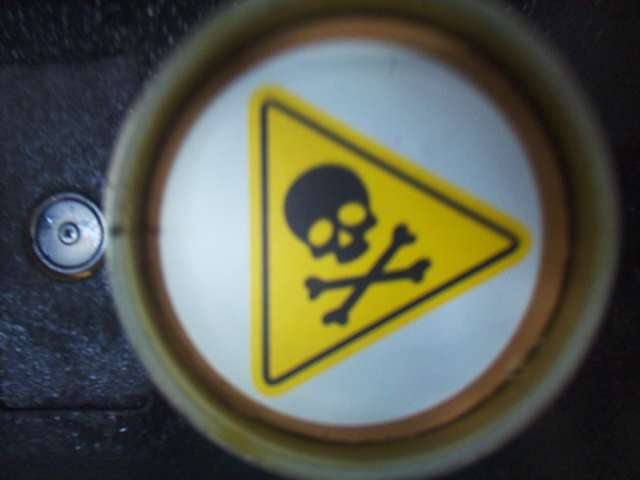toxic_fluid: (233, 75, 540, 408)
